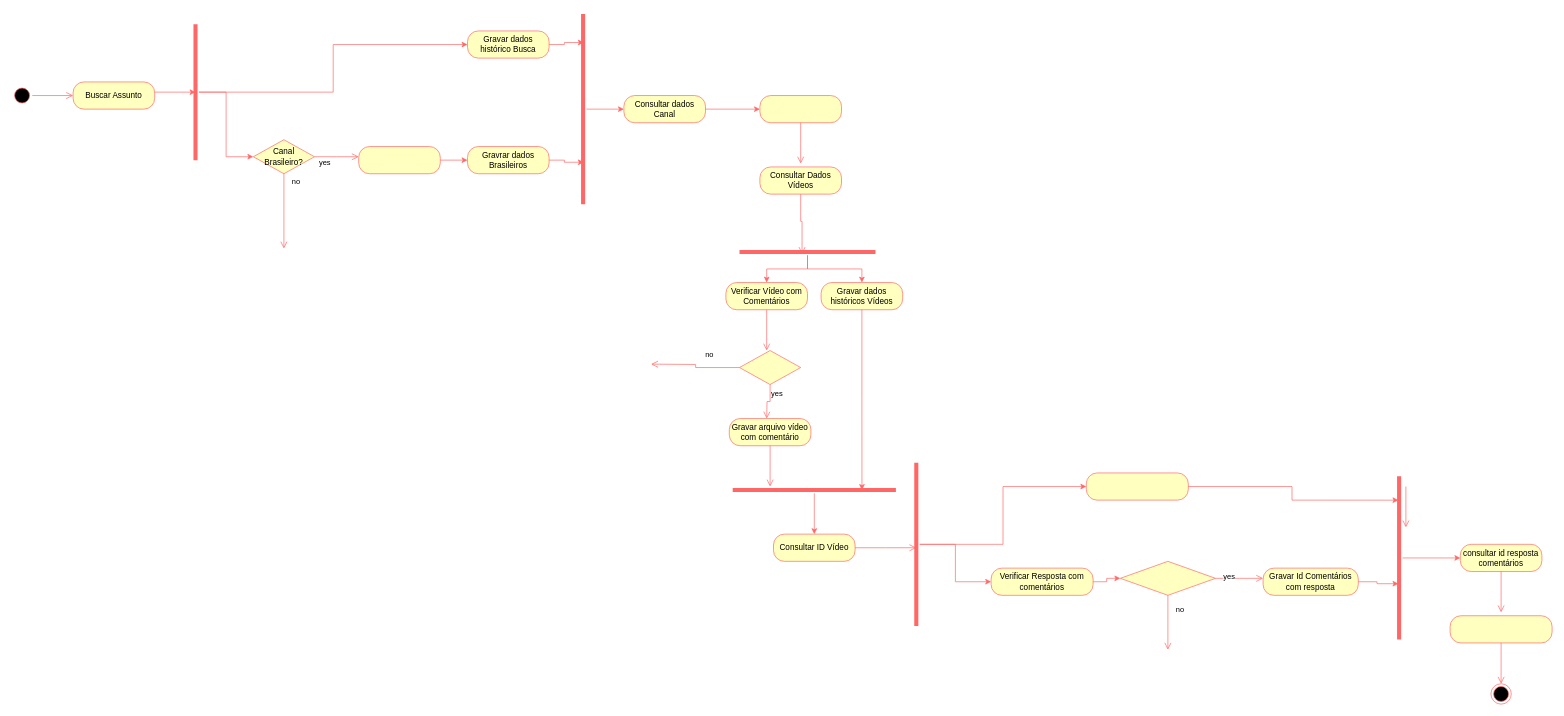
This 1564x716 diagram has some shape labels left out. Each missing label, with the box of its shape:
Buscar dados Canais: (358, 146, 440, 174)
Comentário com resposta?: (1120, 561, 1216, 595)
Gravar dados Histórico Canal: (759, 95, 842, 123)
Gravar dados históricos comentários: (1086, 472, 1188, 500)
gravar dados históricos resposta comentários: (1449, 615, 1552, 643)
Vídeo Com comentário?: (739, 350, 801, 385)
